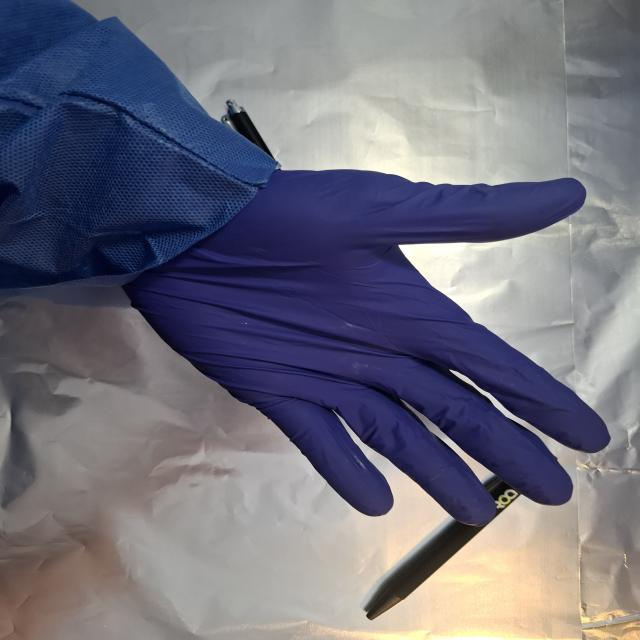glove_on: (120, 167, 607, 529)
